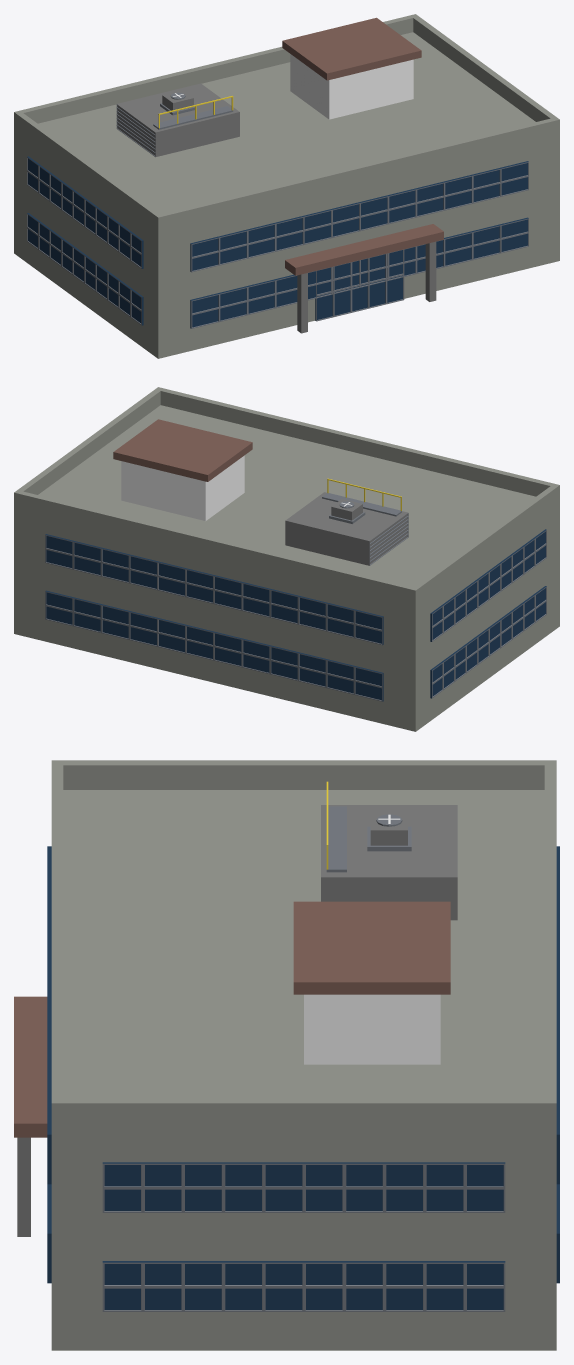
The model's file is site_office_close.fbx.
The picture shows the model from 3 angles, top to bottom: view 1: azimuth 30°, elevation 25°; view 2: azimuth 150°, elevation 25°; view 3: azimuth 270°, elevation 25°; orthographic projection. The views are drawn at different scales.
Parts seen in each view (by area): view 1: a1059/0/site_office_close; view 2: a1059/0/site_office_close; view 3: a1059/0/site_office_close.
Boxes of the visible parts, left/top/right/bottom form: a1059/0/site_office_close: left=14, top=14, right=559, bottom=358; a1059/0/site_office_close: left=14, top=387, right=559, bottom=731; a1059/0/site_office_close: left=14, top=760, right=559, bottom=1350.
Bounding box in the file's own units: 24 × 10 × 16.
